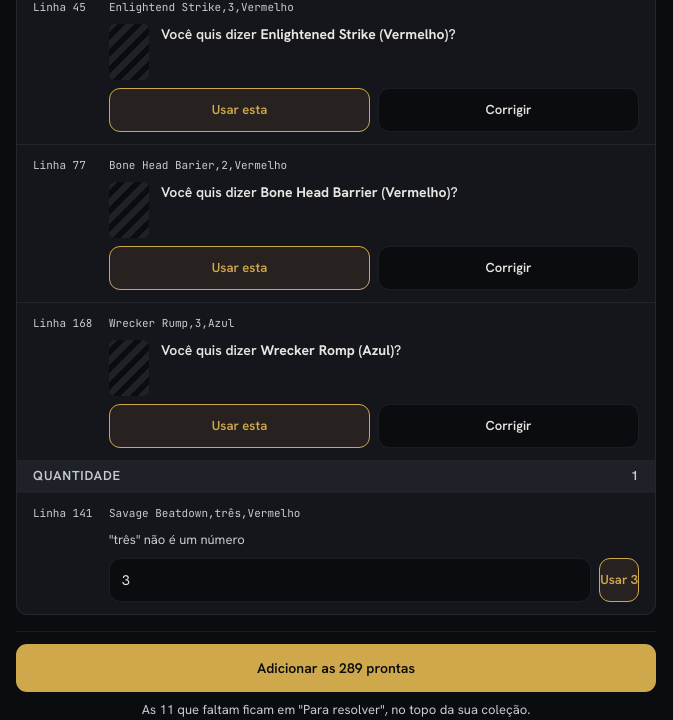
Test: ImportReport › adding the ready lines sends the rest as pending and a duplicate asks before adding again
This screenshot has width=673, height=720.
(page scrolled)
Step 1. Click the button "Adicionar as 289 prontas" → (336, 668), box [16, 644, 656, 692]
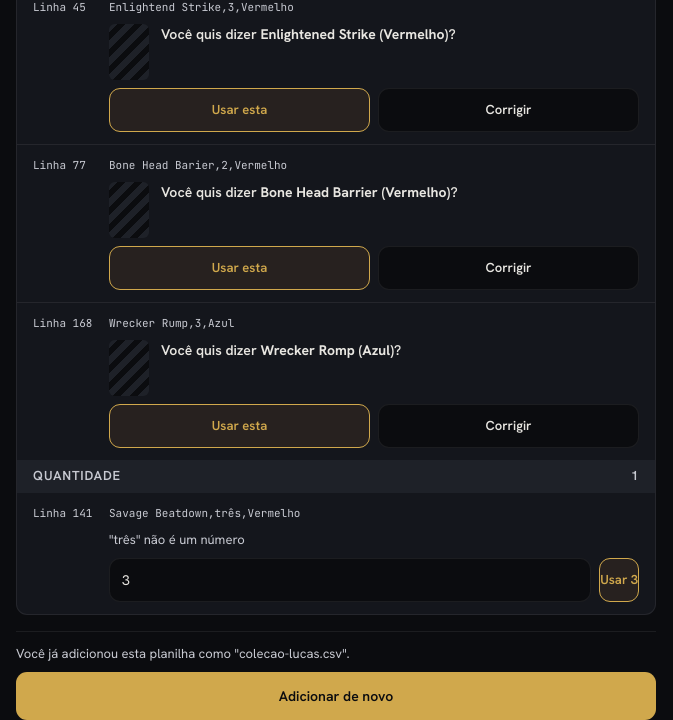
Check: the text "Você já adicionou esta planilha como \"colecao-lucas.csv\"." is shown, box [16, 645, 350, 662]
